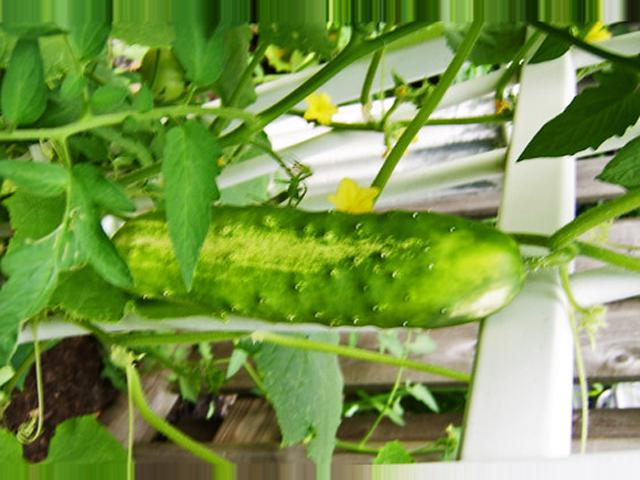cucumber: (115, 210, 525, 327)
